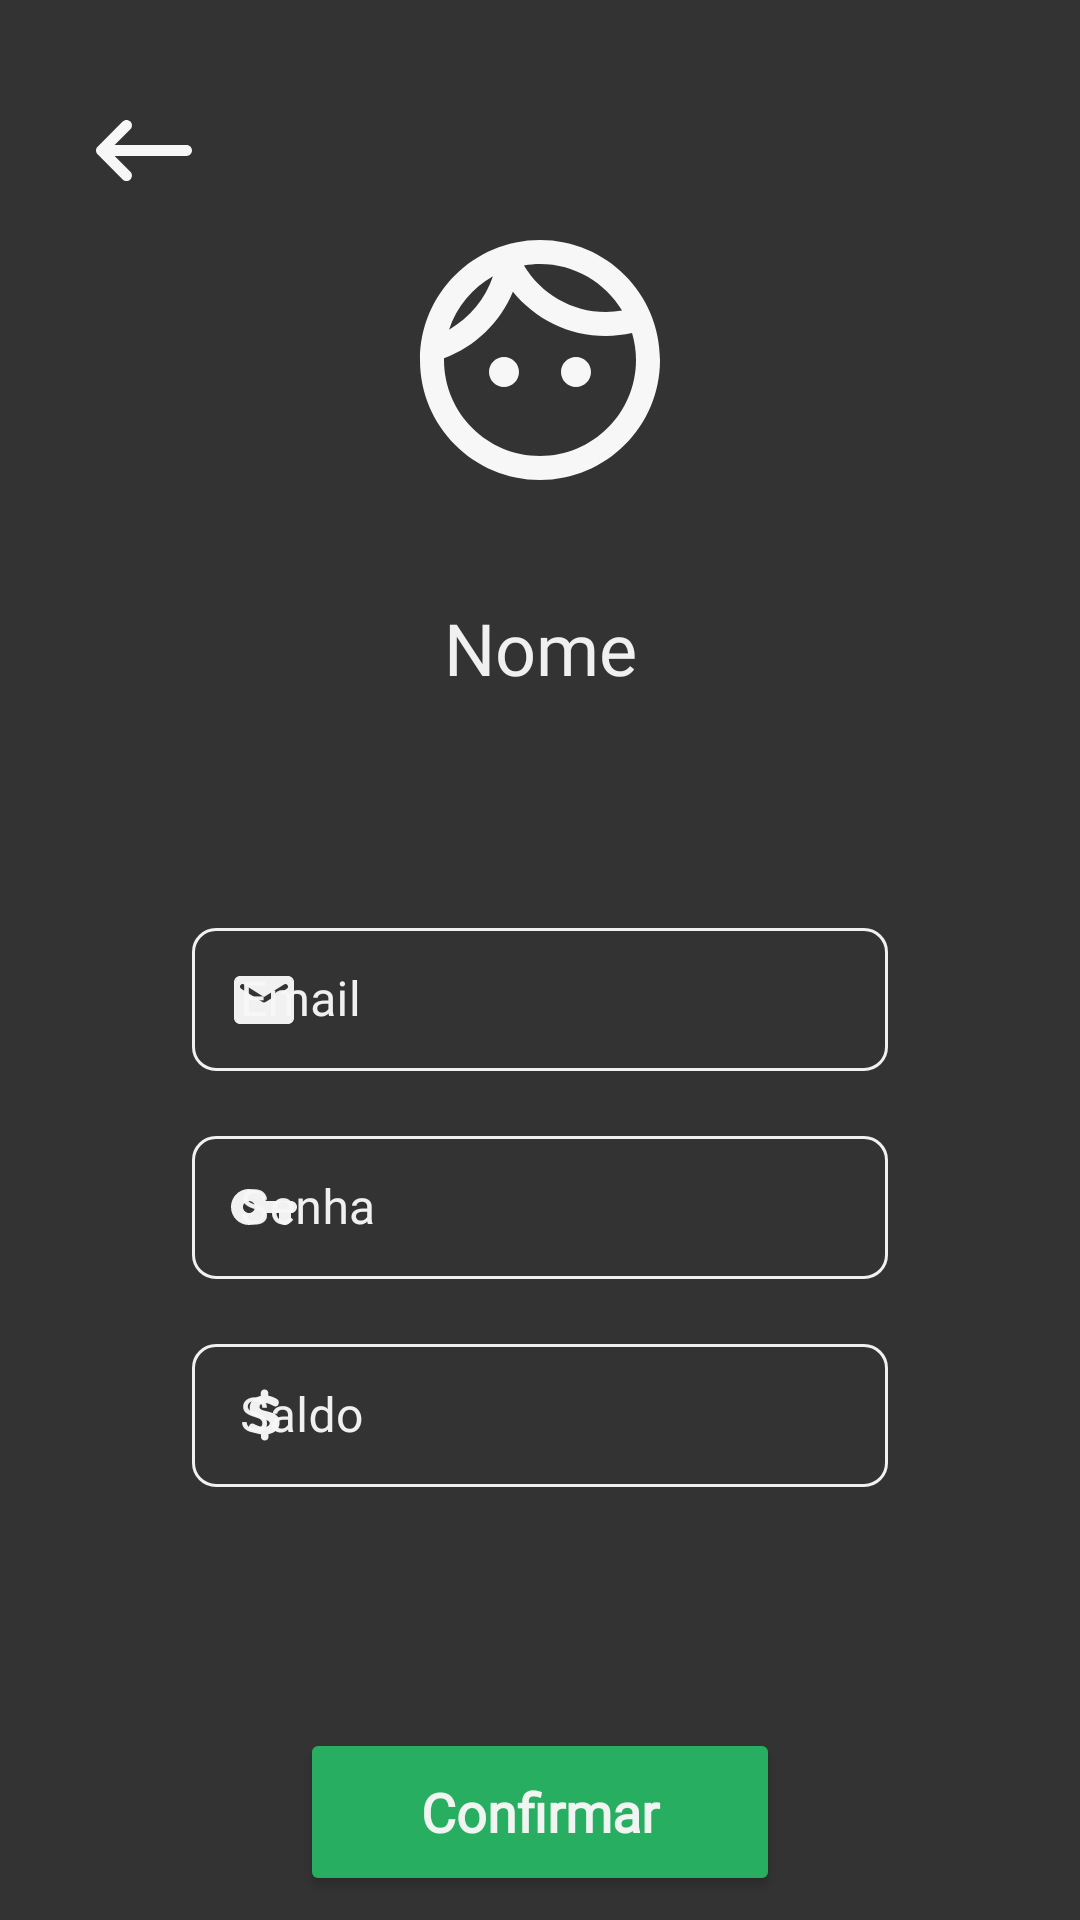

Locate icon controls on the screen. Image size 1080x1920, boxes as bbox=[x1, y1, x2, y2].
go back: bbox=[96, 120, 192, 181]
profile: bbox=[420, 240, 660, 480]
